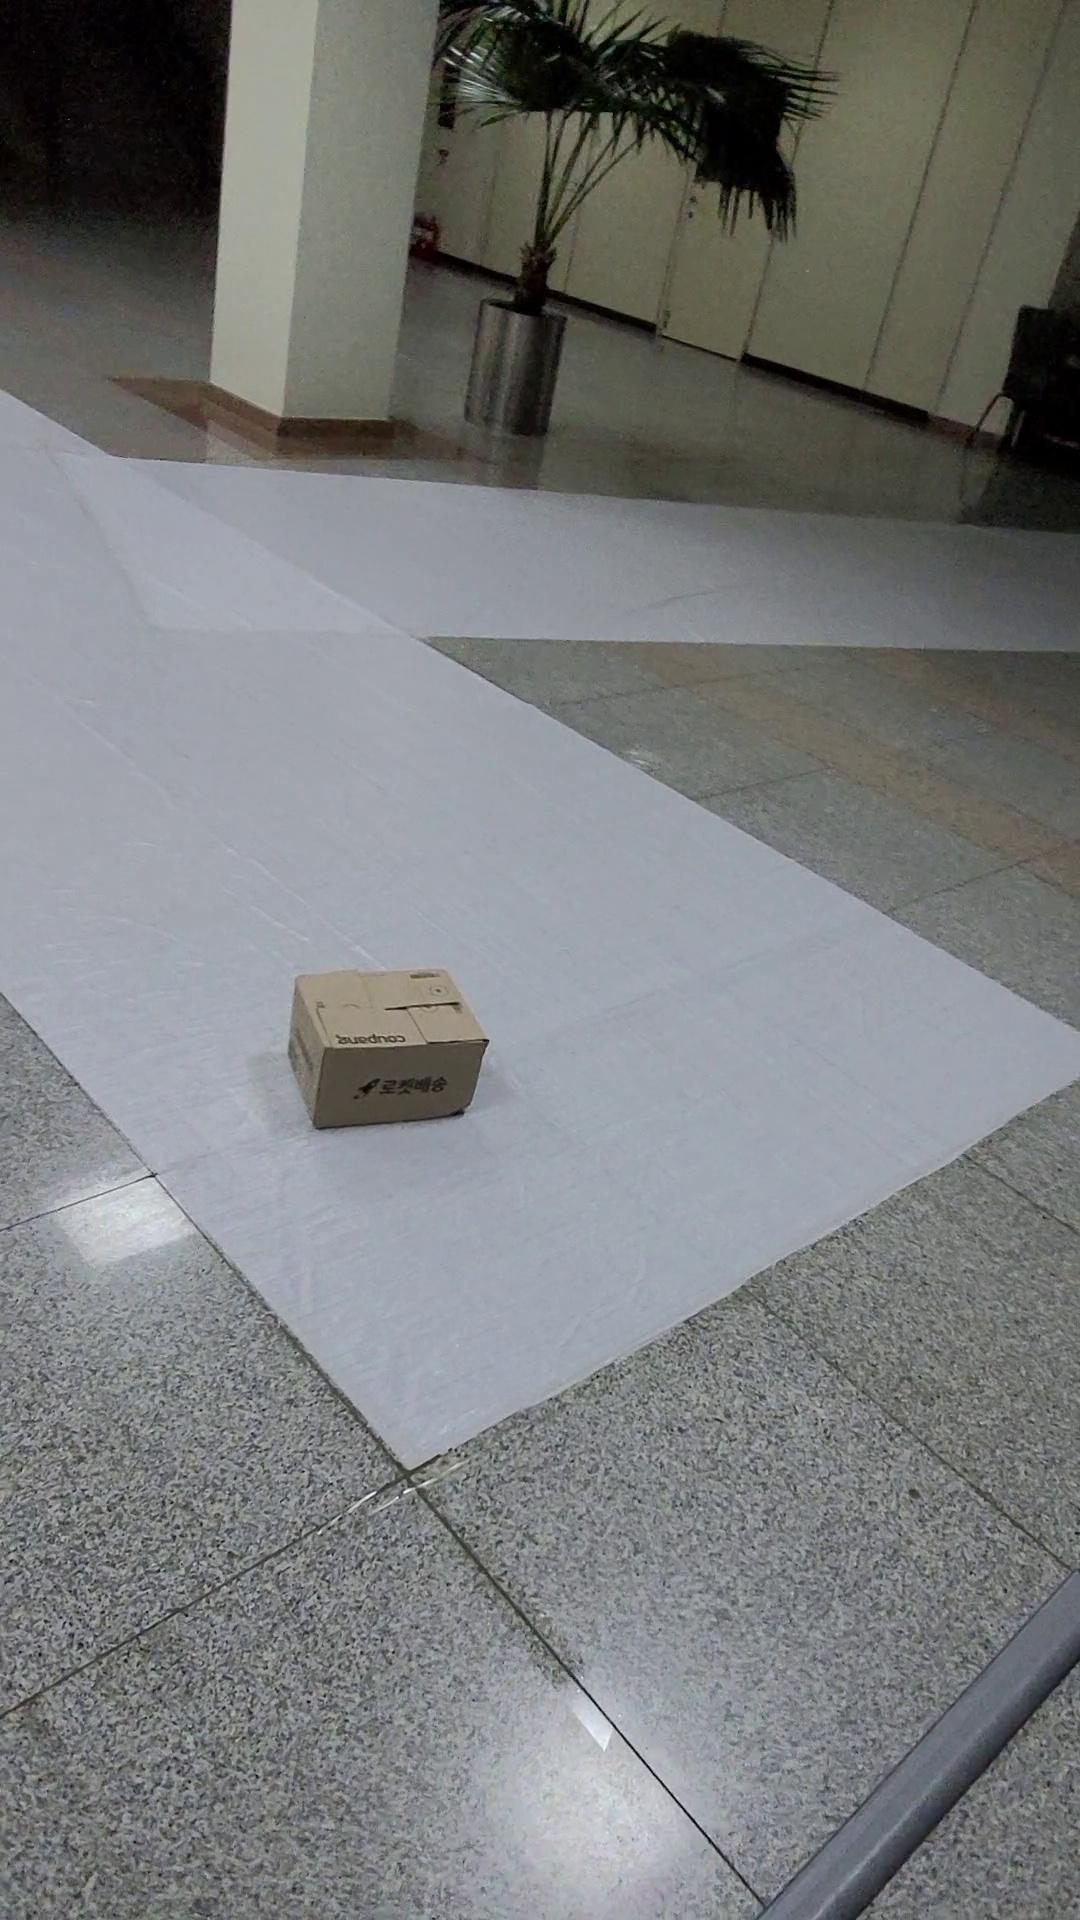Box: (243, 934, 516, 1153)
